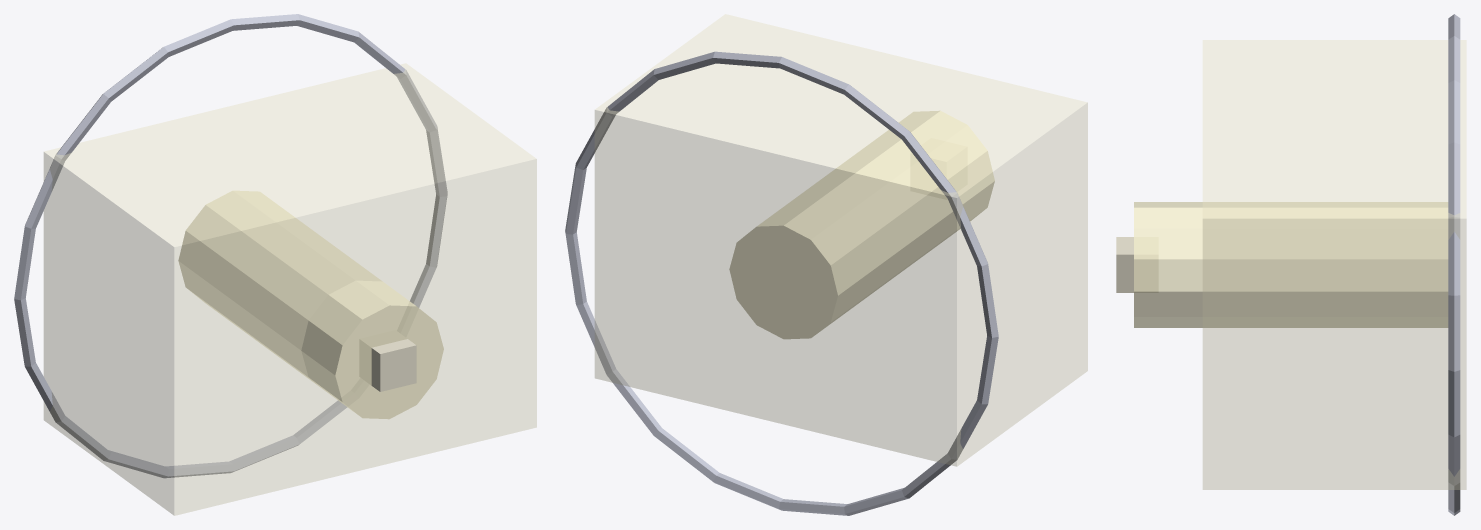
File: 02_lod_collision_overlay_2.glb
3 views of the same model, side by side, from view 1: azimuth 30°, elevation 25°; view 2: azimuth 150°, elevation 25°; view 3: azimuth 270°, elevation 25° (orthographic).
Parts seen in each view (by area): view 1: lod_proxy_box, capsule_hint_center, bounds_ring_floor, pivot_marker; view 2: lod_proxy_box, capsule_hint_center, bounds_ring_floor; view 3: lod_proxy_box, capsule_hint_center, bounds_ring_floor, pivot_marker.
Part boxes in pixels (box(x1,y1,x2,y2)): lod_proxy_box: box(44, 63, 536, 515); capsule_hint_center: box(178, 190, 443, 419); bounds_ring_floor: box(14, 14, 447, 478); pivot_marker: box(360, 330, 416, 391); lod_proxy_box: box(595, 14, 1087, 466); capsule_hint_center: box(729, 110, 994, 339); bounds_ring_floor: box(565, 51, 998, 515); lod_proxy_box: box(1203, 40, 1466, 489); capsule_hint_center: box(1134, 202, 1448, 327); bounds_ring_floor: box(1448, 14, 1460, 515); pivot_marker: box(1116, 237, 1157, 292).
Bounding box in the file's own units: 1.44 × 1.44 × 0.995.
